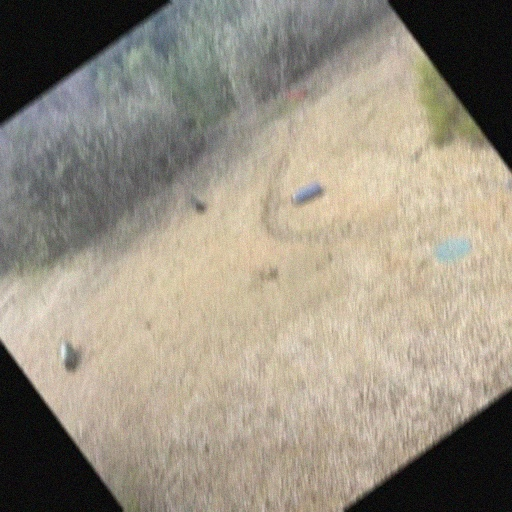bottle: (48, 332, 90, 378), (285, 174, 329, 215), (180, 188, 212, 223)
mallet: (280, 78, 316, 114)
